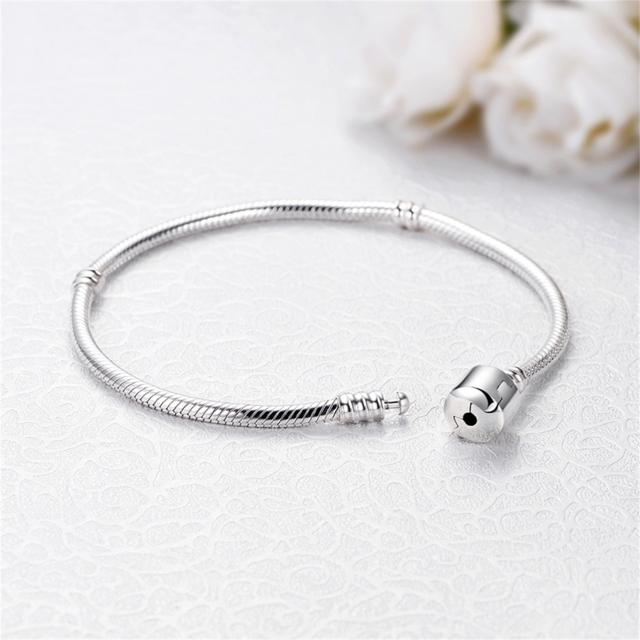bracelet: (23, 121, 638, 503)
